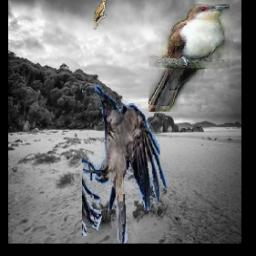Crow: (82, 85, 168, 244)
Cuckoo: (148, 5, 229, 113), (91, 0, 108, 30)
